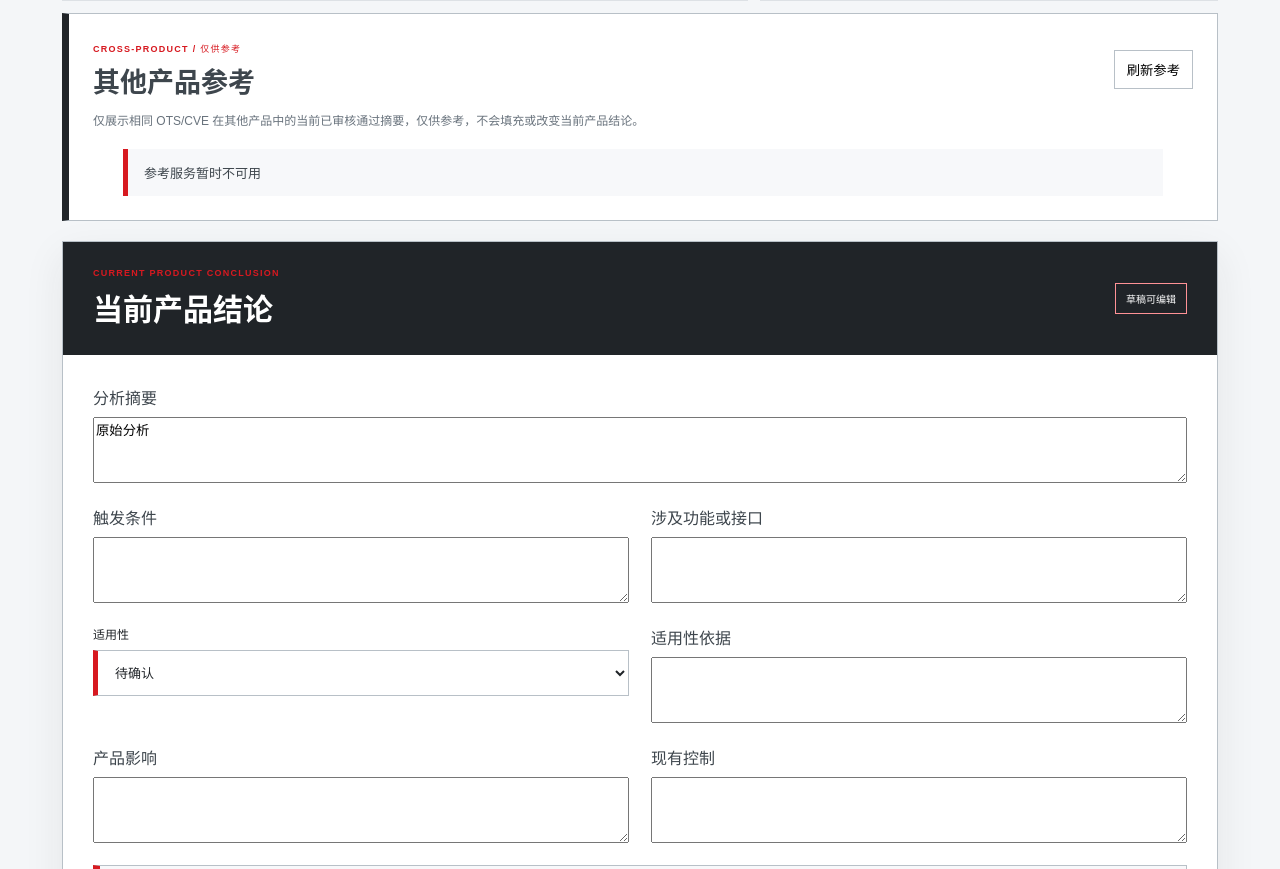
AssessmentDetailPage › isolates approved reference failures and retries without changing the draft
The width and height of the screenshot is (1280, 869).
(page scrolled)
Replace the text in the text box named "analysis_summary" with "未保存的当前产品分析". click: [640, 450]
box: [93,417,1187,483]
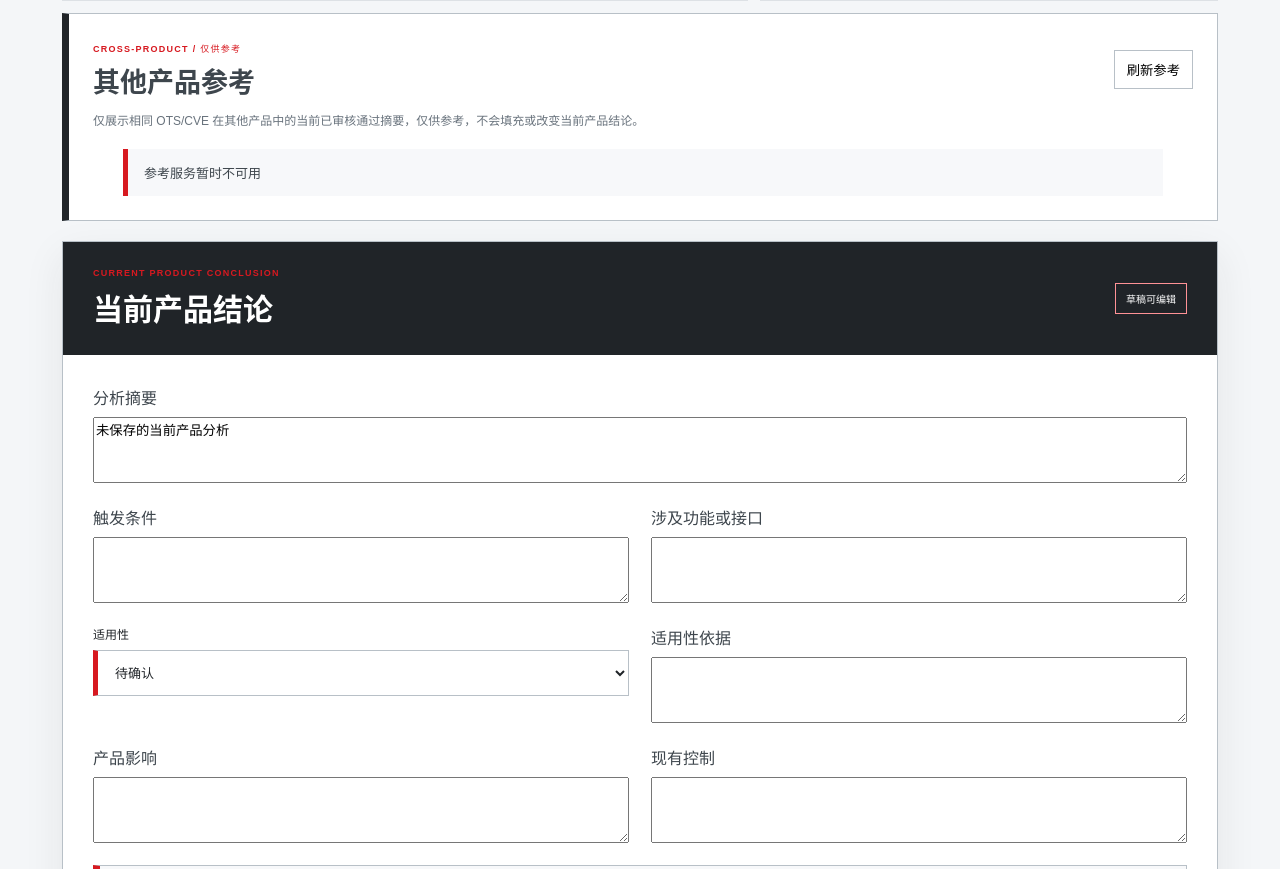
Check: the element that starts with "CROSS-PRODUCT / 仅供参考" shows "参考服务暂时不可用", box [144,166,261,181]
Click the button "刷新参考". click: [1153, 69]
box: [1114,50,1193,89]
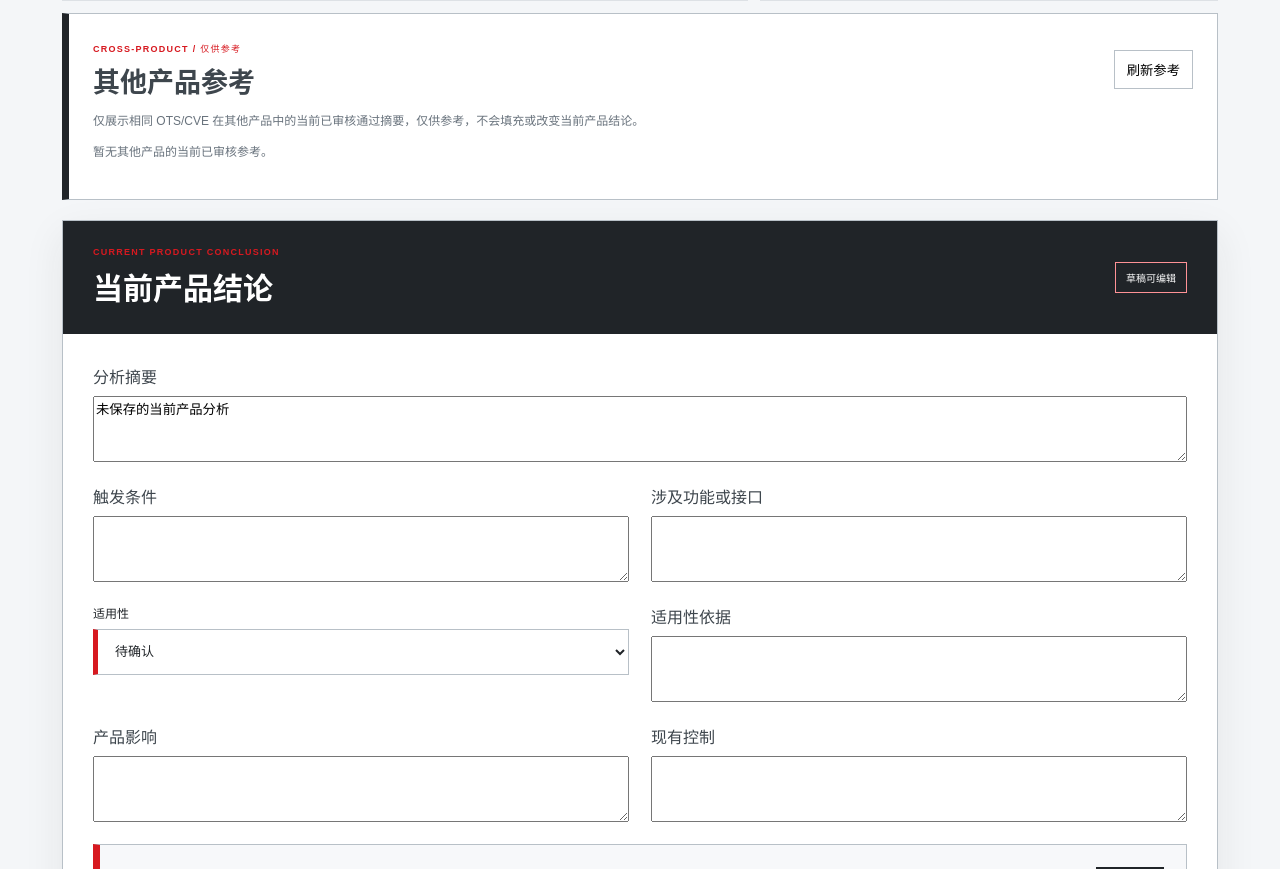
Check: the element that starts with "CROSS-PRODUCT / 仅供参考" shows "暂无其他产品的当前已审核参考", box [93,145,273,159]
